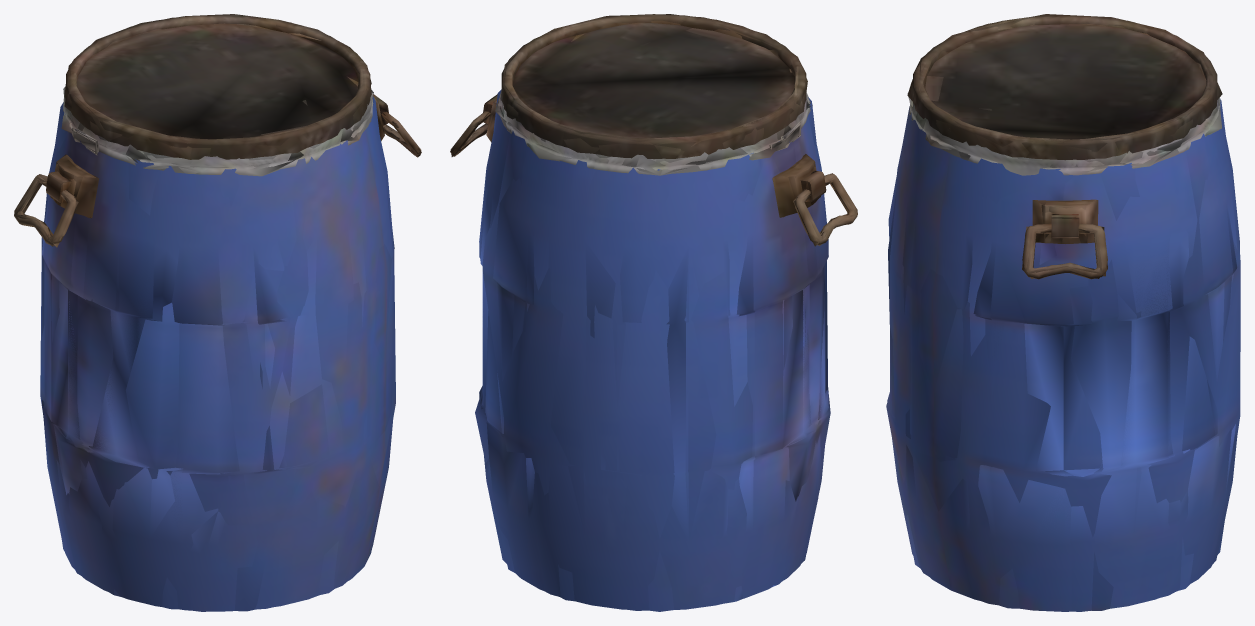
Rendered from sm_citybarrels_01.glb.
3 renders of one model, left to right at view 1: azimuth 30°, elevation 25°; view 2: azimuth 150°, elevation 25°; view 3: azimuth 270°, elevation 25°, orthographic.
Parts seen in each view (by area): view 1: sm_citybarrels_01_00; view 2: sm_citybarrels_01_00; view 3: sm_citybarrels_01_00.
Boxes of the visible parts, x1=… form: sm_citybarrels_01_00: x1=14, y1=14, x2=421, y2=611; sm_citybarrels_01_00: x1=450, y1=14, x2=857, y2=611; sm_citybarrels_01_00: x1=886, y1=14, x2=1240, y2=611.
Size of the model in its own units: 0.8796 by 1.06 by 0.7254.
1 material, 1 textured.
